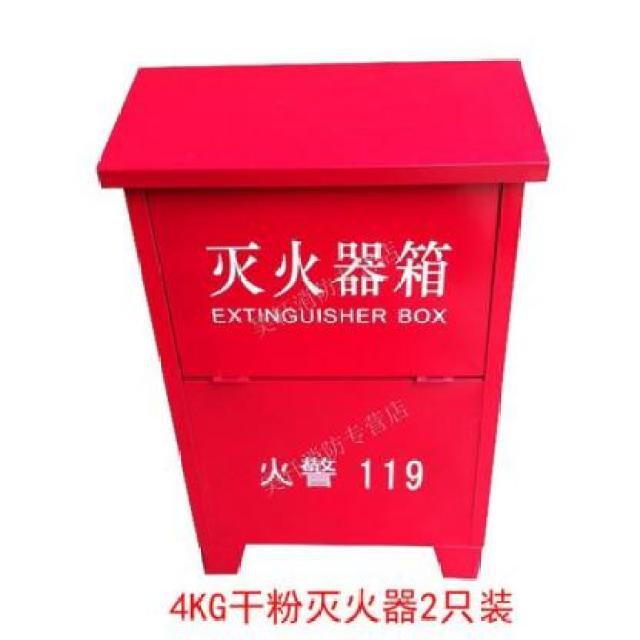firehydrant: (90, 52, 554, 588)
